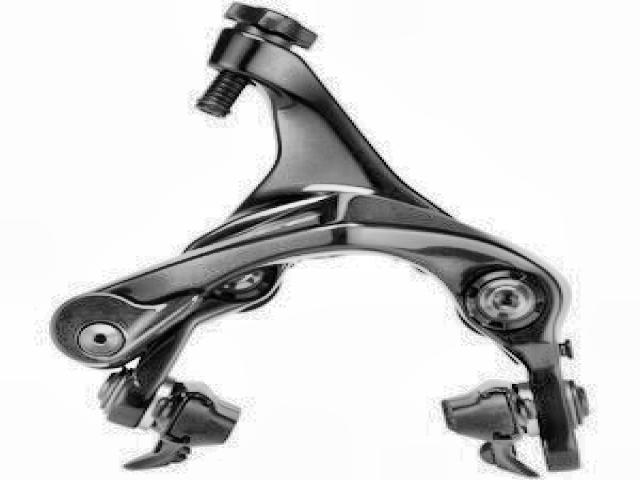rim_brake: (50, 2, 589, 480)
